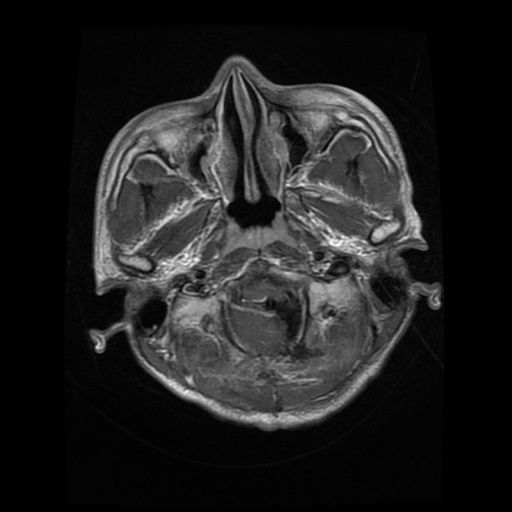glioma: (267, 296, 302, 339)
